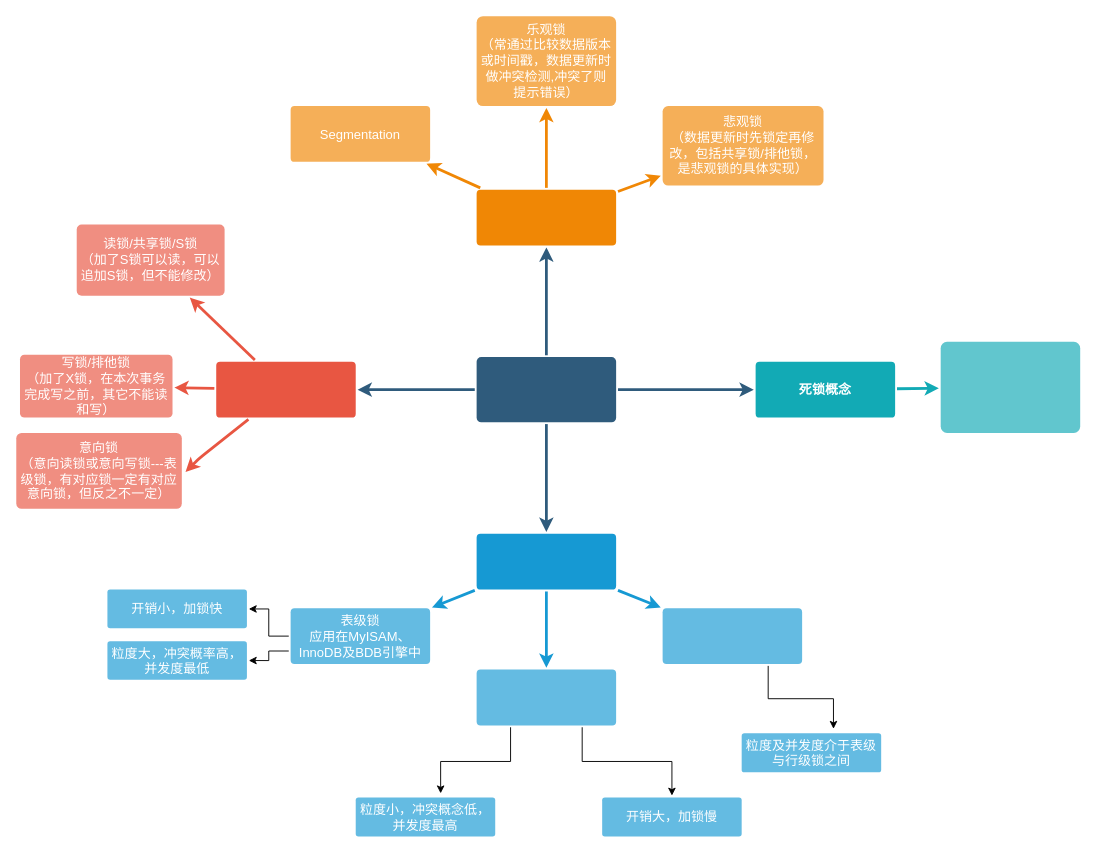
The diagram is 1096 pixels wide and 852 high, and some of its shapes have lost their labels. Each missing label, with the centre of its shape:
"MySQL死锁及其解决" goes at pixel 546 389.
"两个或多个事务在执行过程中由于争夺资源造成相互等待，若无外力干涉则无法继续执行" goes at pixel 1010 386.
"从性能来看（宏观实现上看）" goes at pixel 546 217.
"从操作类型来看MySQL锁分类" goes at pixel 285 389.
"行级锁 应用在InnoDB引擎中" goes at pixel 546 697.
"锁的粒度及其优缺点" goes at pixel 546 561.
"页级锁（每次锁相邻的一组记录）" goes at pixel 732 636.
